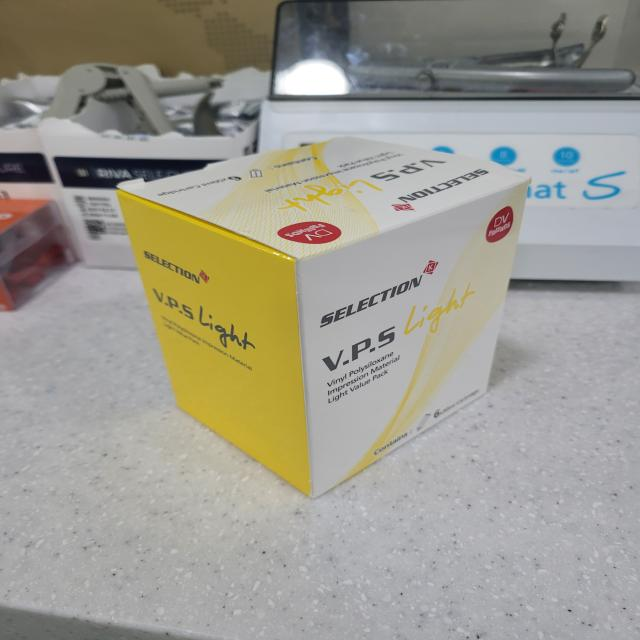impression: (110, 122, 563, 519)
